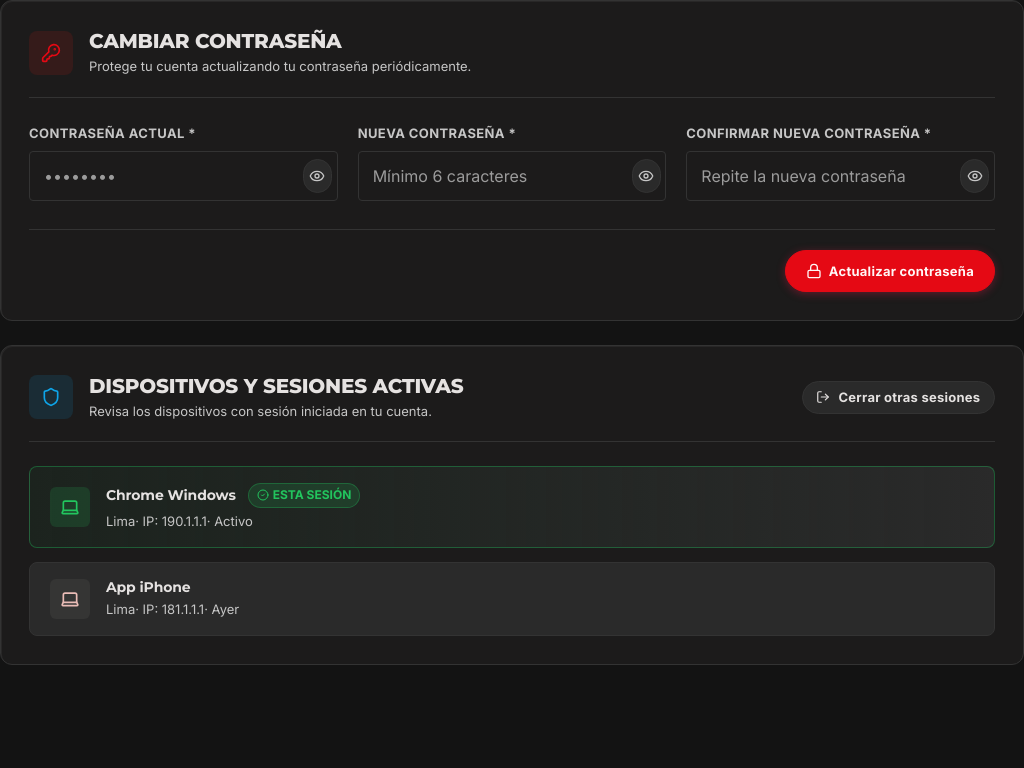
Test: PerfilSeguridadForm.vue › rechaza una clave igual a la actual como lo haría la API
Type "admin1234567" into the password field with id "seguridad-actual" at x=183, y=176, box x1=29 y1=151 x2=338 y2=201
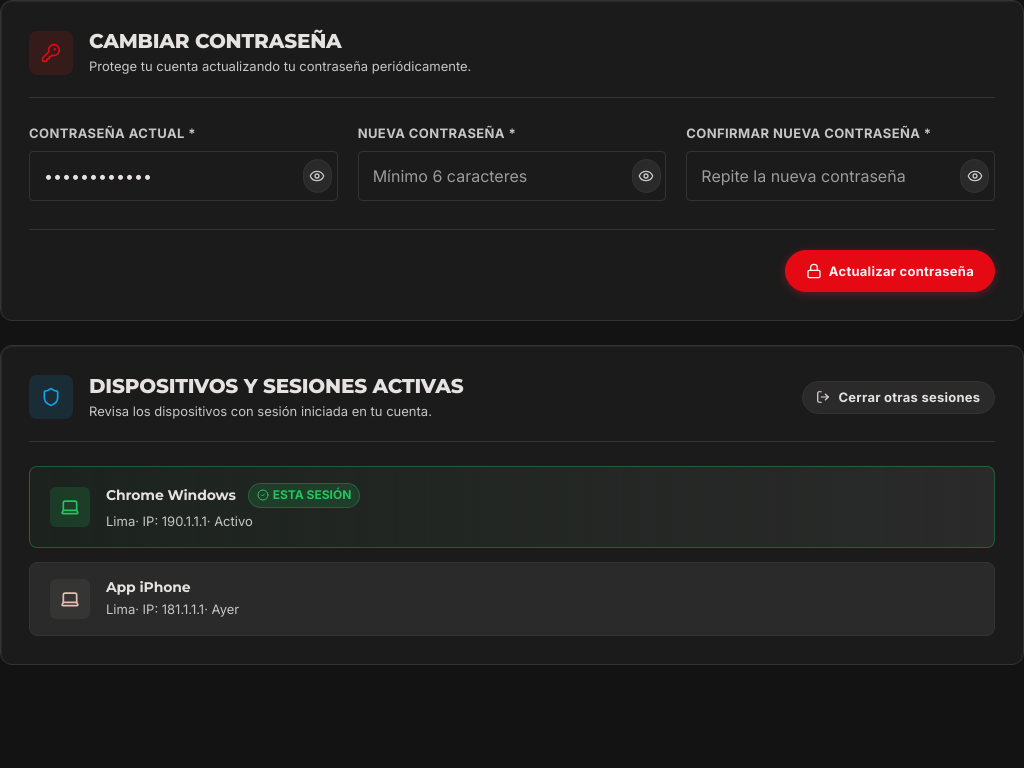
Type "admin1234567" into the password field with id "seguridad-nueva" at x=512, y=176, box x1=358 y1=151 x2=666 y2=201
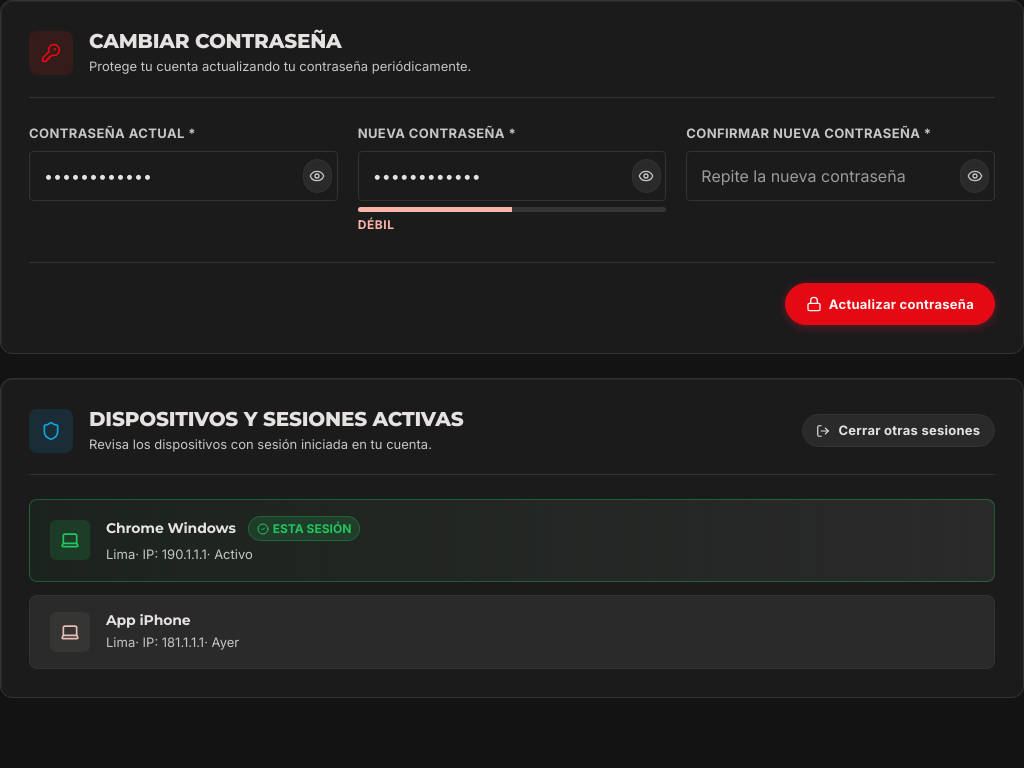
Type "admin1234567" into the password field with id "seguridad-confirmacion" at x=841, y=176, box x1=686 y1=151 x2=995 y2=201
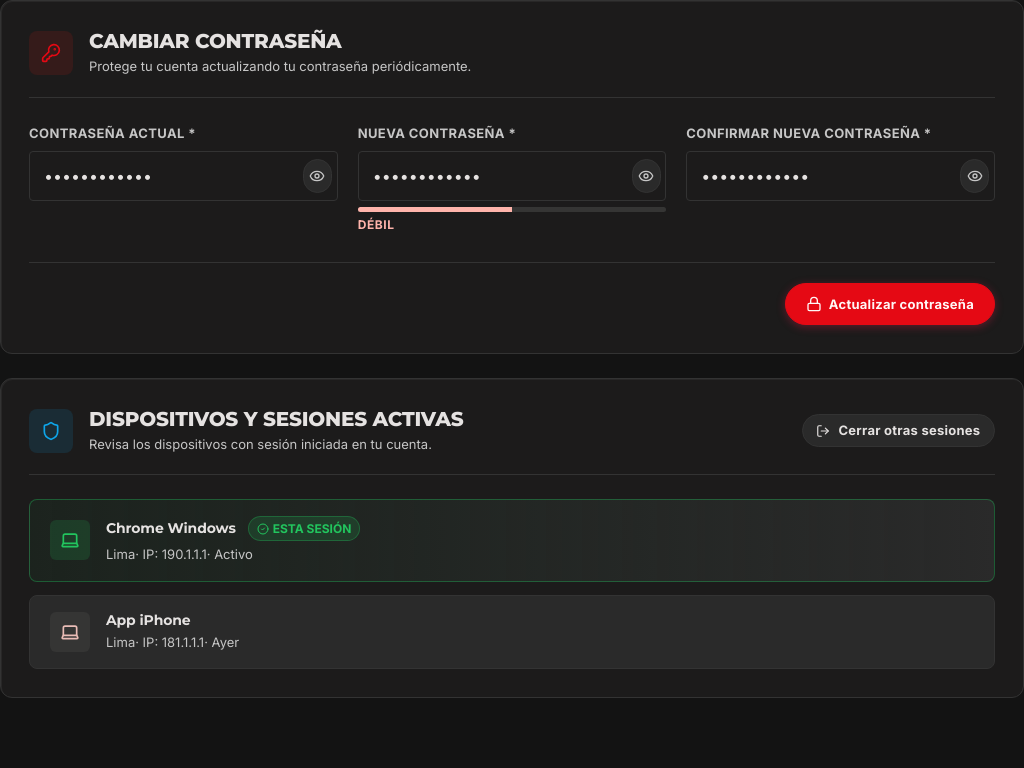
Submit the form, box x1=0 y1=0 x2=1023 y2=354
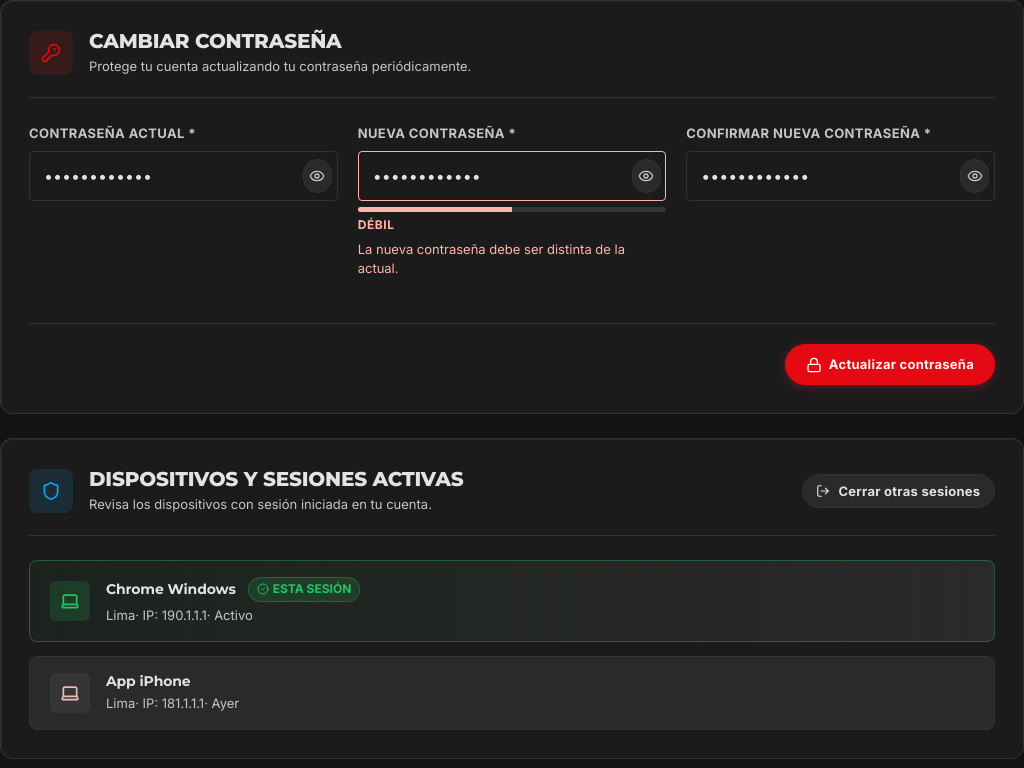
Now the text "distinta de la actual" is shown, box x1=358 y1=241 x2=625 y2=276
